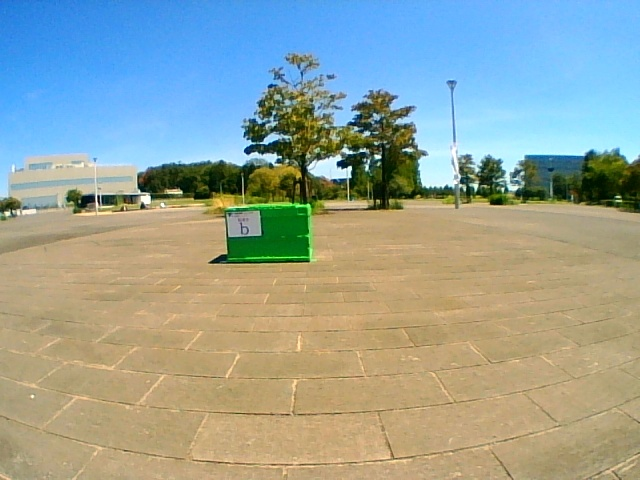green_box: (225, 204, 310, 262)
tag_b: (228, 213, 260, 236)
